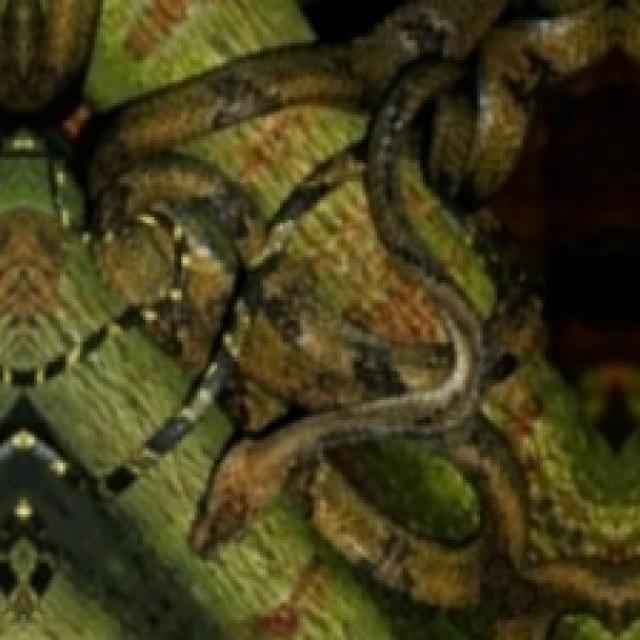dog-toothed cat snake: (0, 0, 640, 619)
